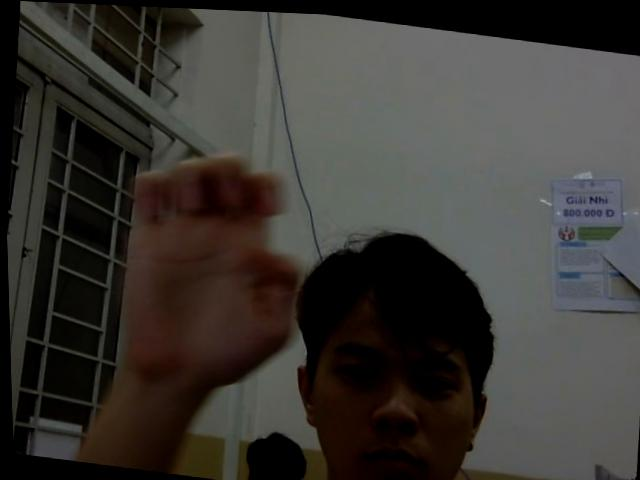E: (107, 137, 308, 391)
